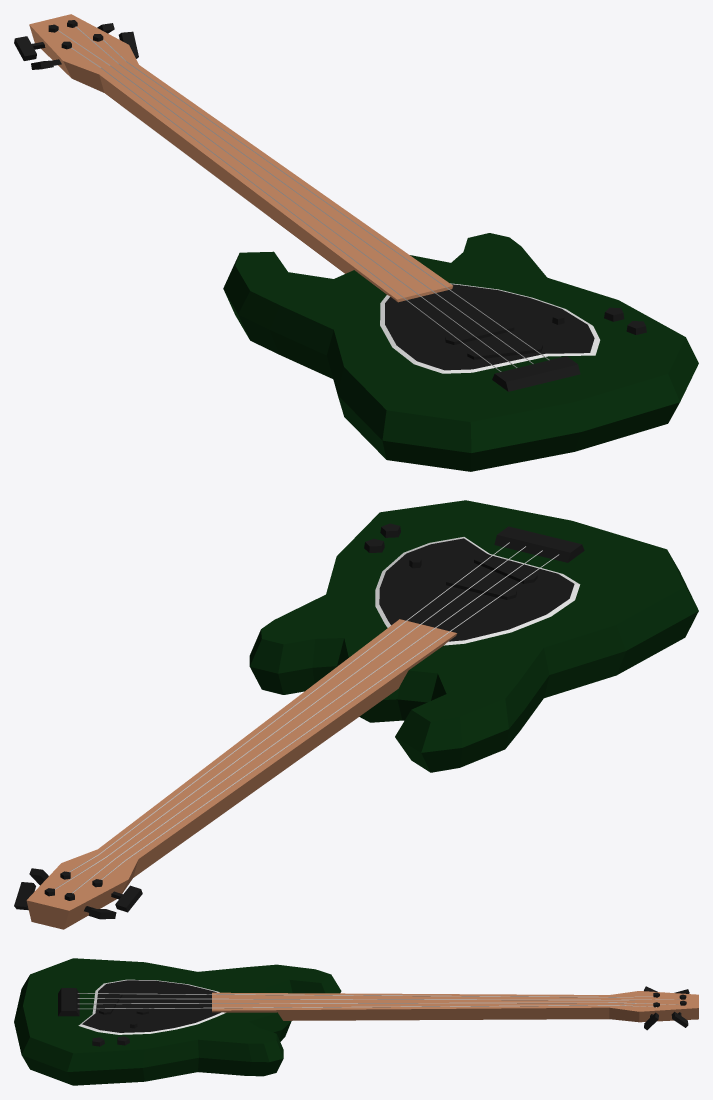
The model's file is BassGuitar.fbx.
The picture shows the model from 3 angles, top to bottom: view 1: azimuth 30°, elevation 25°; view 2: azimuth 150°, elevation 25°; view 3: azimuth 270°, elevation 25°; orthographic projection. The views are drawn at different scales.
Parts seen in each view (by area): view 1: BassGuitar, HeadAndNeck, bodyPaint, Strings, SoundReceivers, Head knobs; view 2: BassGuitar, HeadAndNeck, bodyPaint, Strings, SoundReceivers, Head knobs; view 3: BassGuitar, HeadAndNeck, bodyPaint, Strings, SoundReceivers, Head knobs.
Part boxes in pixels (left/top/right/bottom): BassGuitar: left=223, top=233, right=698, bottom=471; HeadAndNeck: left=29, top=14, right=452, bottom=302; bodyPaint: left=380, top=283, right=600, bottom=373; Strings: left=48, top=20, right=580, bottom=391; SoundReceivers: left=445, top=307, right=646, bottom=359; Head knobs: left=14, top=23, right=138, bottom=69; BassGuitar: left=249, top=500, right=698, bottom=772; HeadAndNeck: left=26, top=619, right=456, bottom=929; bodyPaint: left=375, top=537, right=580, bottom=645; Strings: left=44, top=526, right=584, bottom=900; SoundReceivers: left=364, top=523, right=537, bottom=599; Head knobs: left=14, top=868, right=142, bottom=919; BassGuitar: left=14, top=958, right=341, bottom=1085; HeadAndNeck: left=212, top=991, right=698, bottom=1022; bodyPaint: left=78, top=979, right=225, bottom=1034; Strings: left=58, top=988, right=686, bottom=1016; SoundReceivers: left=92, top=991, right=148, bottom=1046; Head knobs: left=644, top=986, right=689, bottom=1030.
Size of the model in its own units: 33.28 by 5.82 by 95.82.
